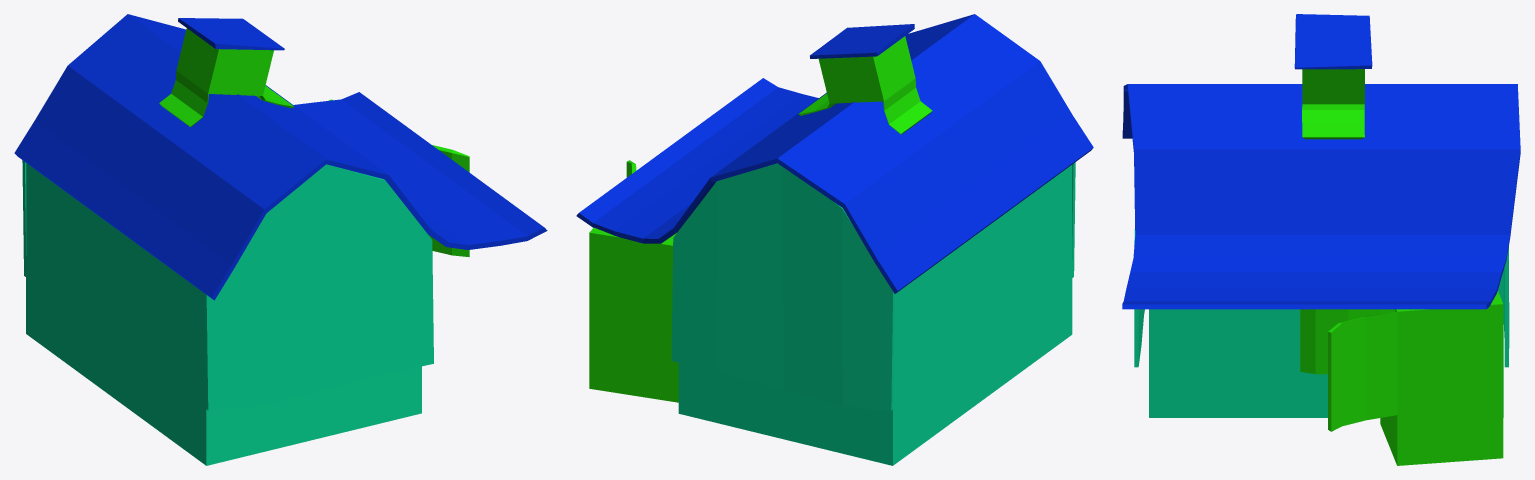
File: SM_Ferme.fbx
The picture shows the model from 3 angles, left to right: view 1: azimuth 30°, elevation 25°; view 2: azimuth 150°, elevation 25°; view 3: azimuth 270°, elevation 25°; orthographic projection.
Parts seen in each view (by area): view 1: SM_Ferme; view 2: SM_Ferme; view 3: SM_Ferme.
Part boxes in pixels (x1,y1,x2,y2): SM_Ferme: [14, 14, 547, 465]; SM_Ferme: [576, 14, 1093, 465]; SM_Ferme: [1122, 14, 1520, 465].
Size of the model in its own units: 625 by 569 by 603.
